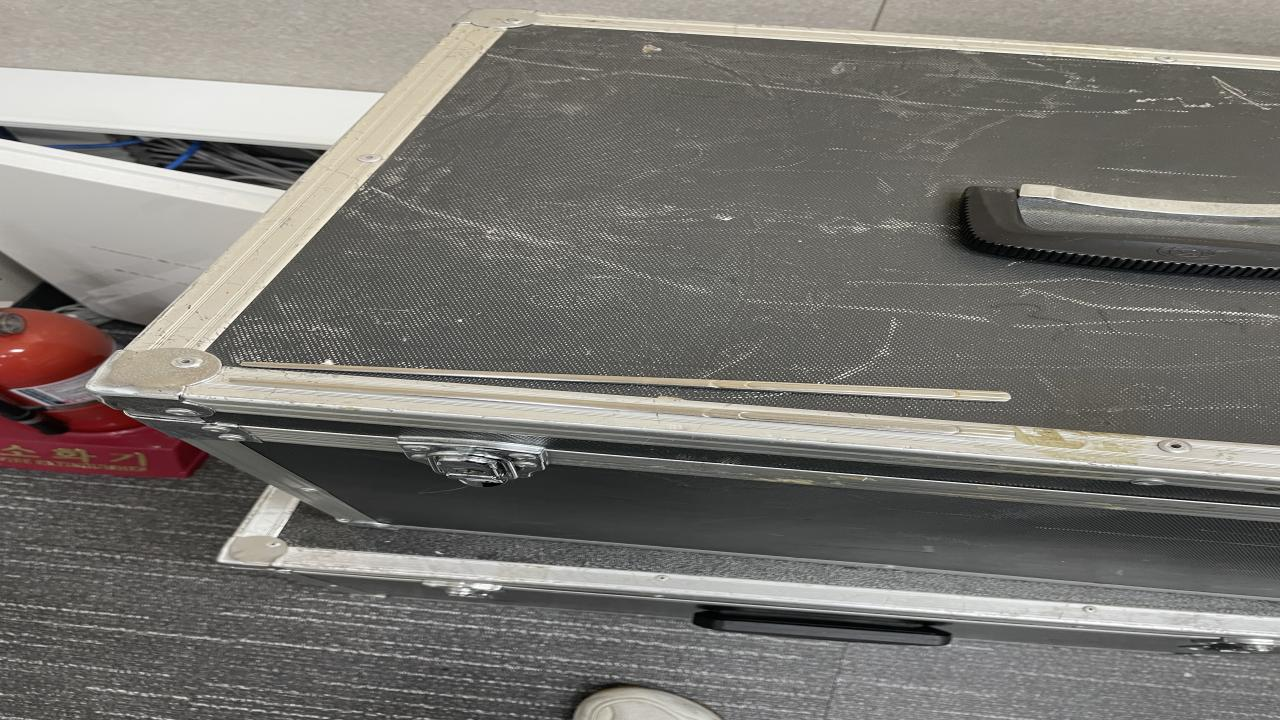chopstick: (218, 355, 1015, 441)
